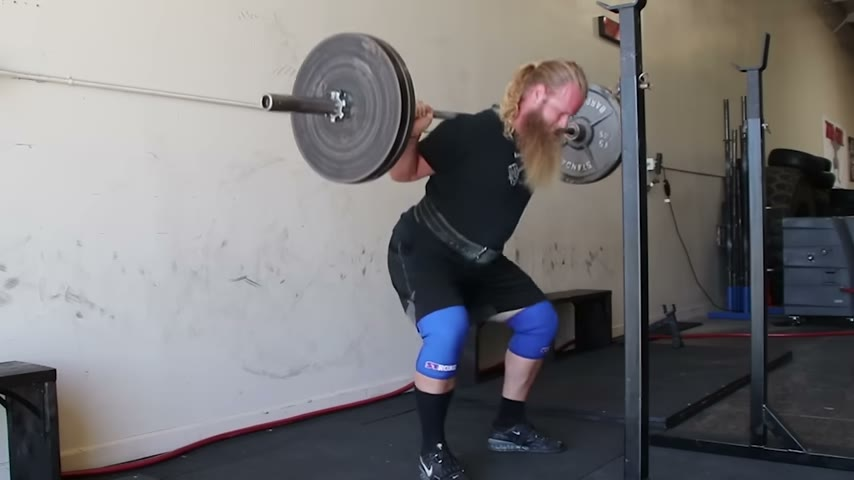barbell_plate_side: (286, 30, 373, 192), (549, 53, 622, 192)
